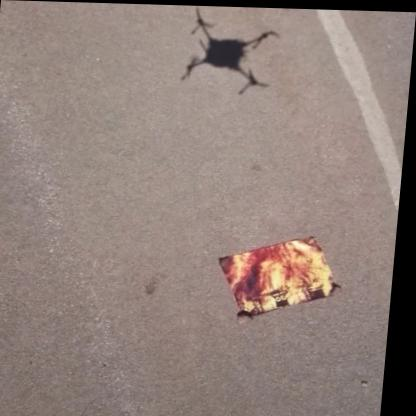fire-poster: (217, 232, 351, 320)
